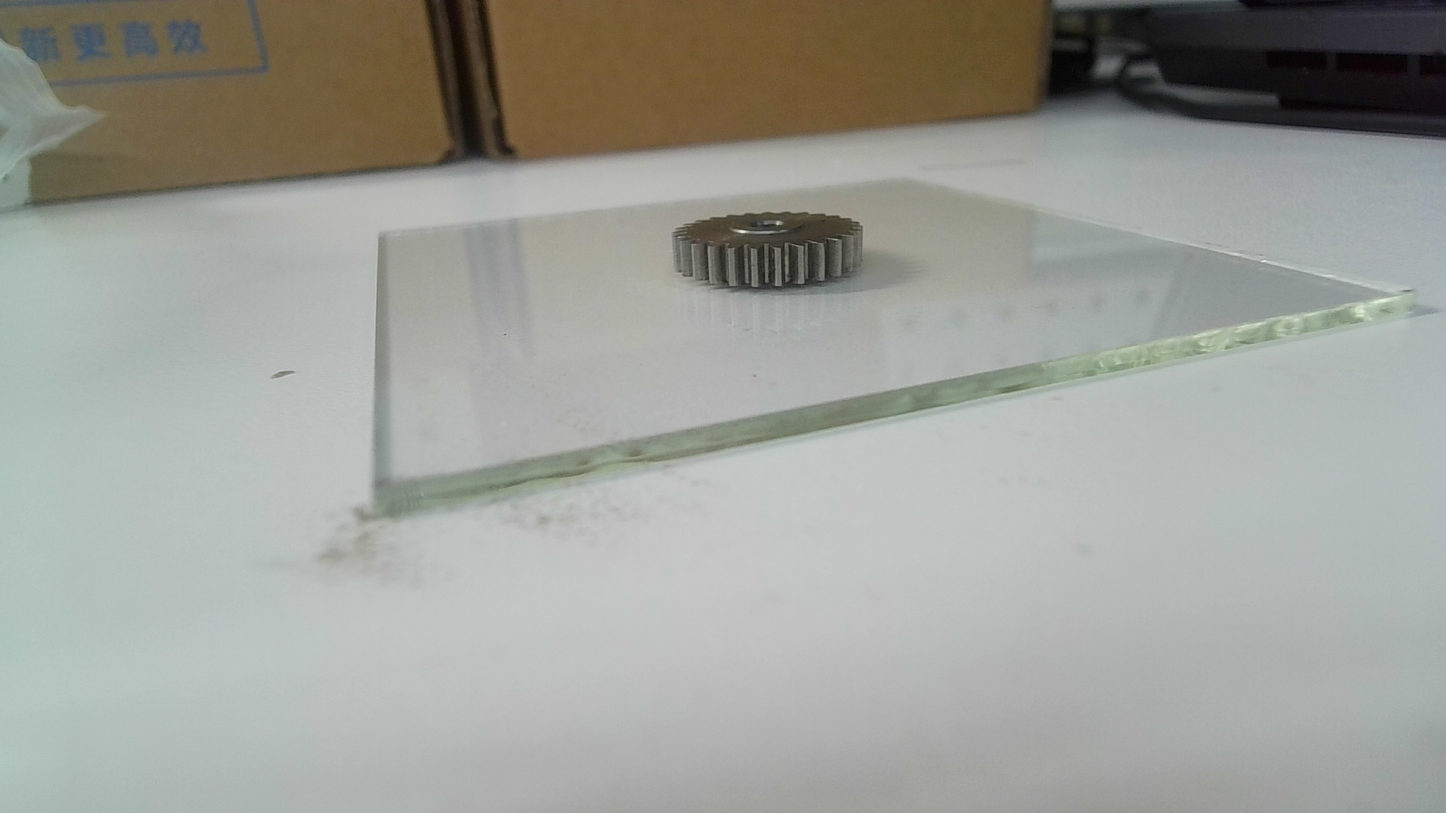gear: (669, 206, 868, 288)
